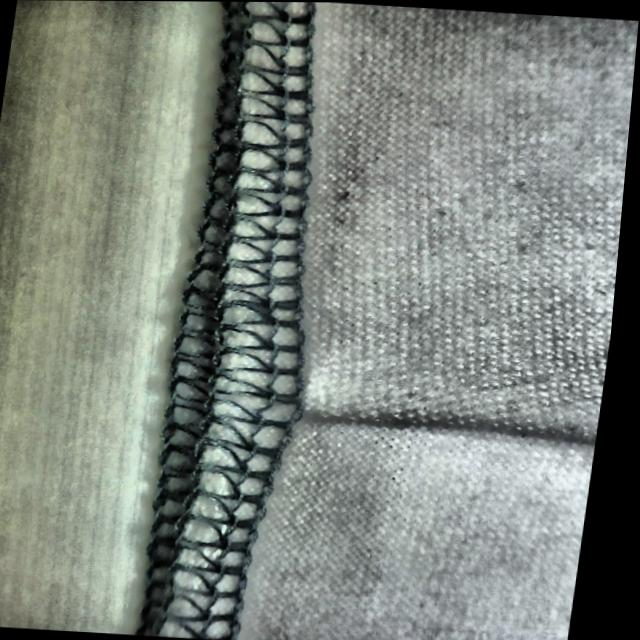seam: (209, 336, 559, 487)
